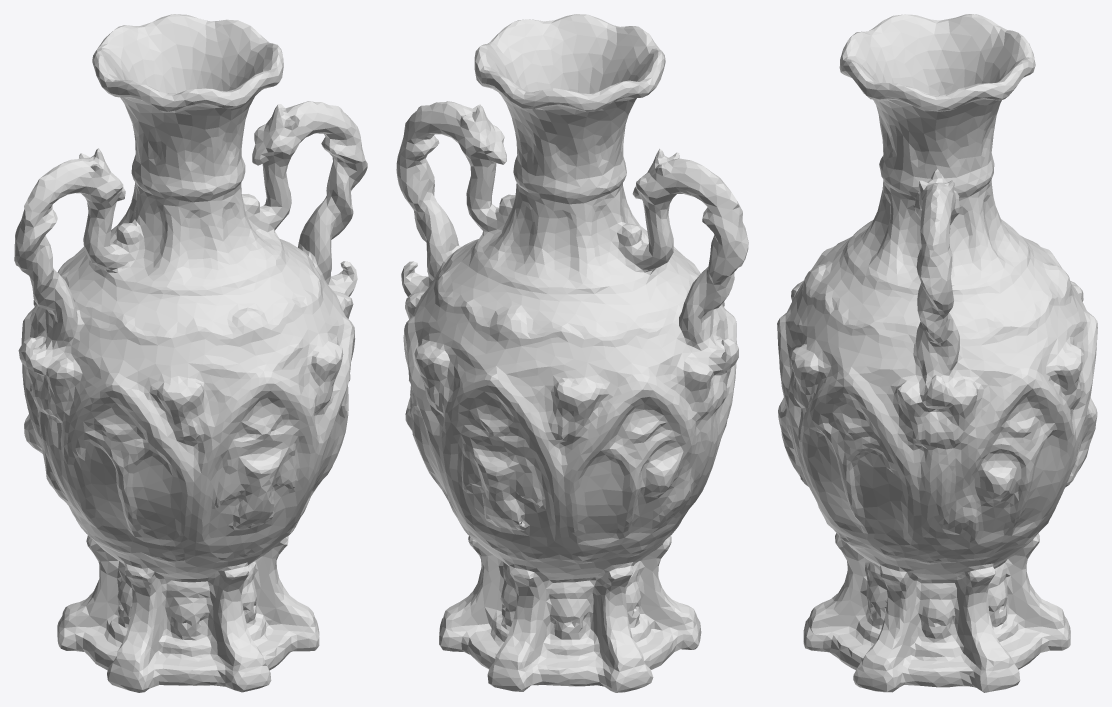
Rendered from orn_vase01.glb.
3 renders of one model, left to right at view 1: azimuth 30°, elevation 25°; view 2: azimuth 150°, elevation 25°; view 3: azimuth 270°, elevation 25°, orthographic.
Parts seen in each view (by area): view 1: Low; view 2: Low; view 3: Low.
Part boxes in pixels (x1,y1,x2,y2): Low: [14, 14, 367, 692]; Low: [396, 14, 748, 692]; Low: [777, 14, 1097, 692].
Size of the model in its own units: 1.23 by 1.99 by 0.9706.
Materials: 1 (1 with a texture image).
